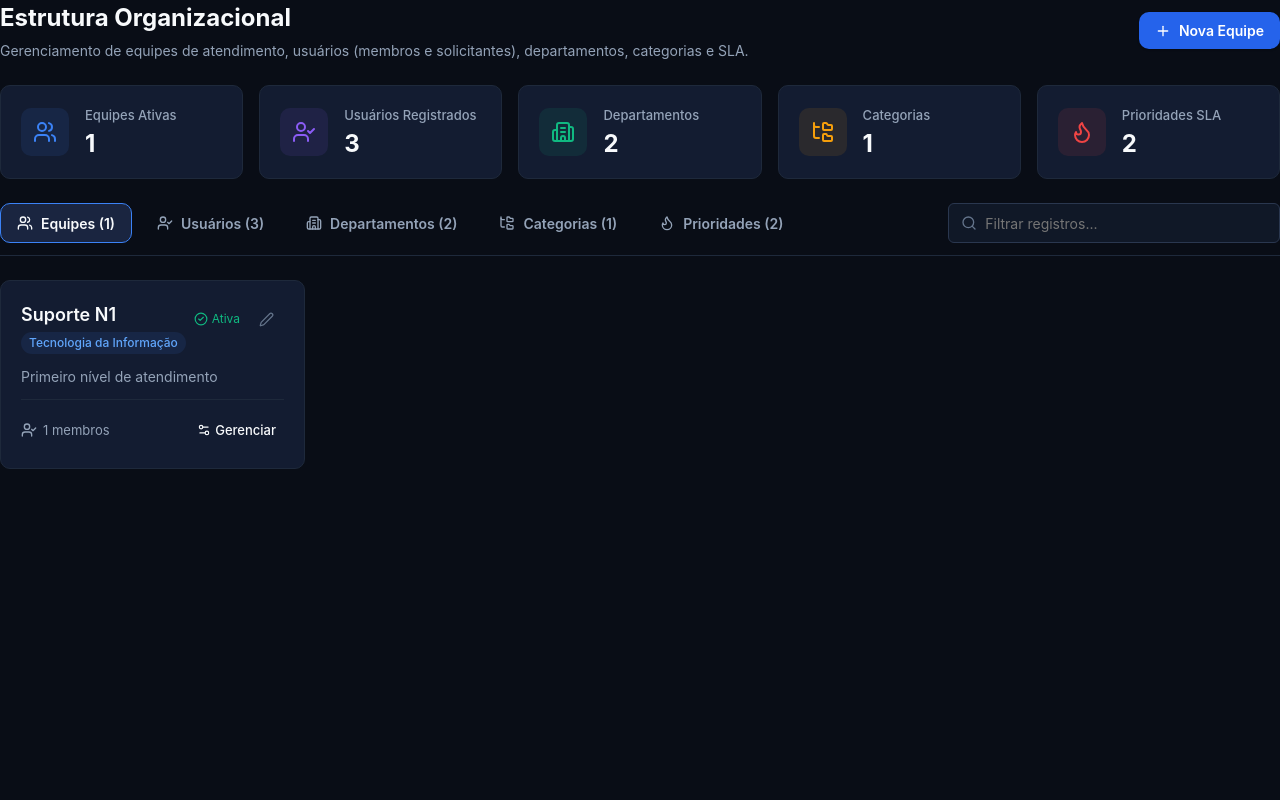
Test case: TeamsPage Component › excludes requesters and only displays staff agents in team members select dropdown
This screenshot has width=1280, height=800.
Click "Gerenciar" on the team card
Click the button "Gerenciar": (237, 430) x1=189 y1=412 x2=284 y2=448
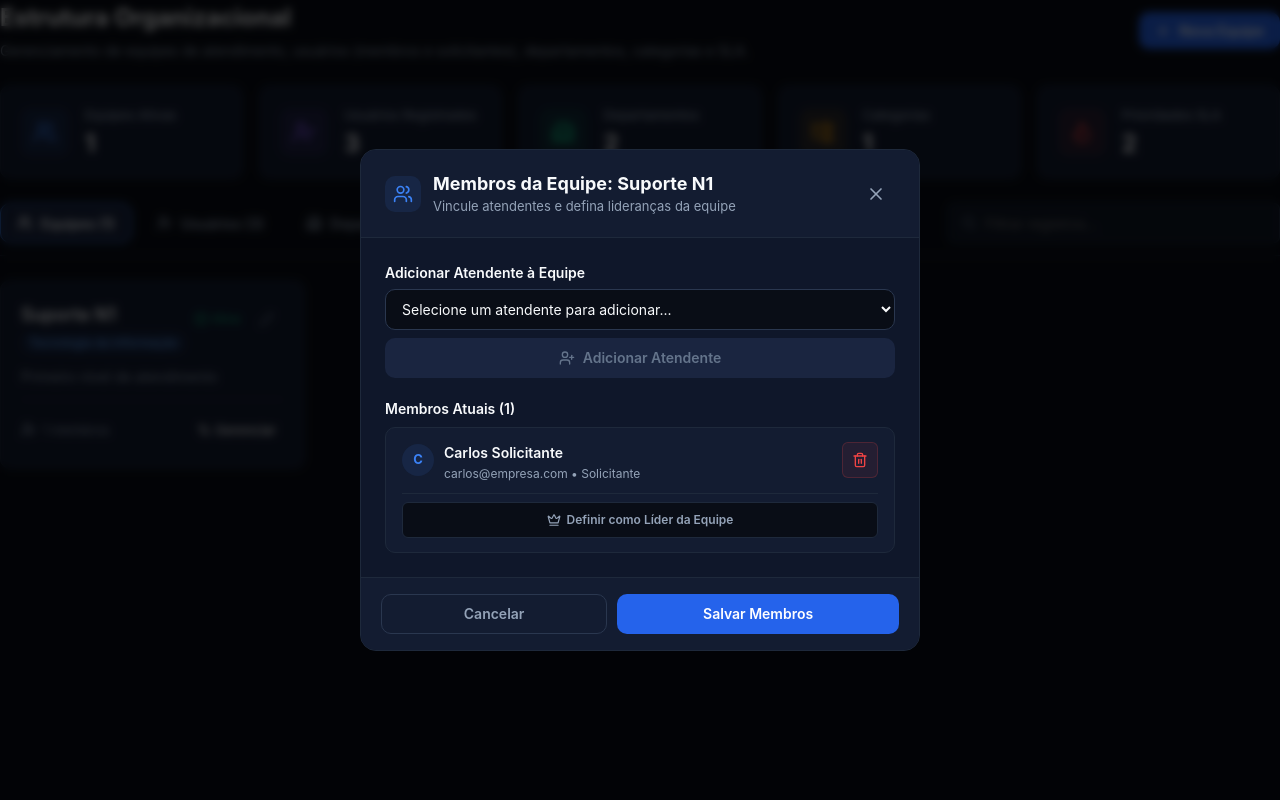
Now the heading "Membros da Equipe: Suporte N1" is shown, box x1=433 y1=170 x2=736 y2=197
Now the text "Adicionar Atendente à Equipe" is shown, box x1=385 y1=264 x2=585 y2=281
